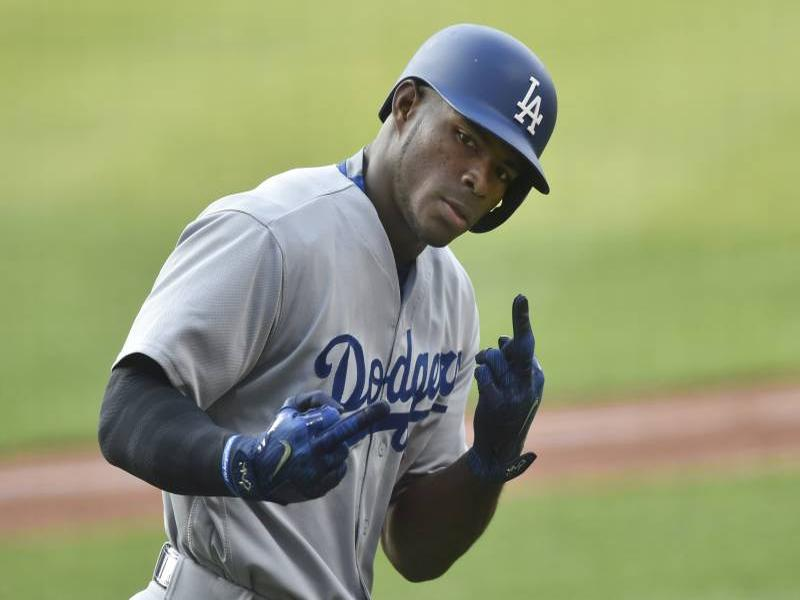flipping_the_bird: (453, 293, 554, 455)
